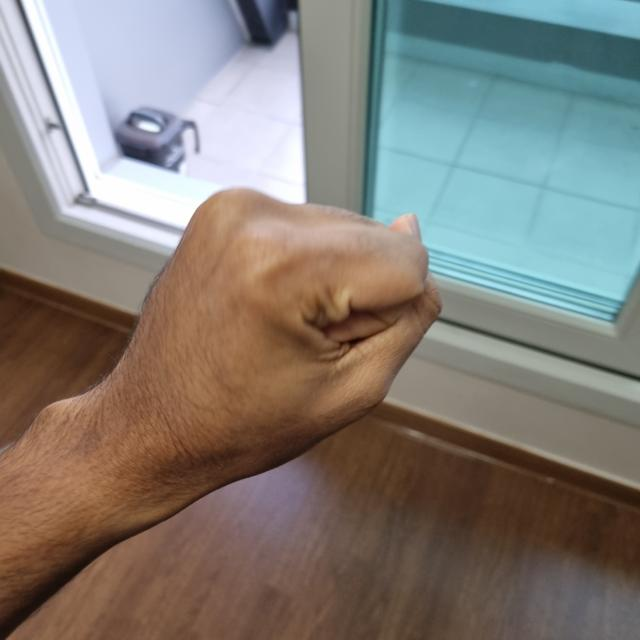Rock: (101, 187, 440, 501)
